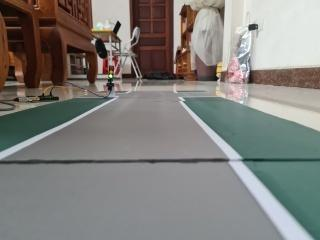green: (106, 62, 118, 83)
